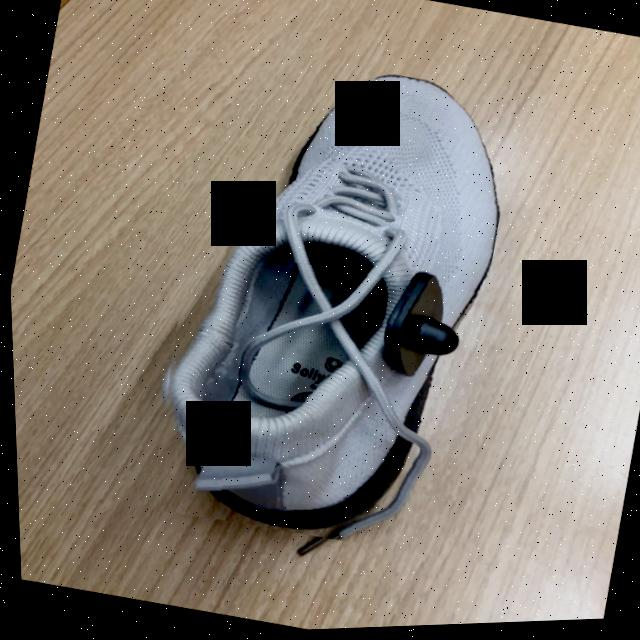shoe: (164, 78, 498, 541)
